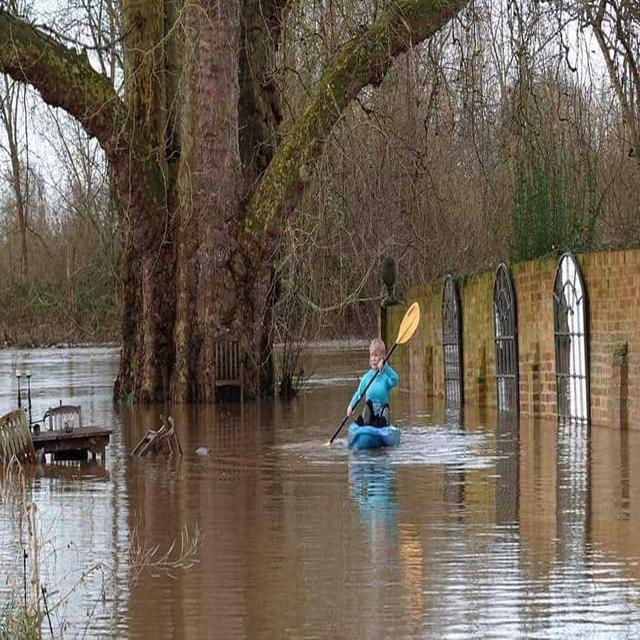Person-RiskLevel3: (337, 308, 413, 452)
